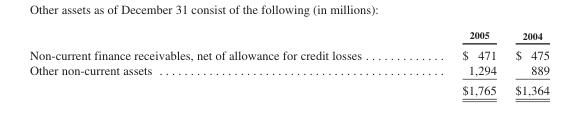table: (29, 29, 549, 96)
table column: (29, 29, 411, 96), (411, 29, 505, 96), (505, 29, 549, 96)
table column header: (29, 29, 549, 43)
table row: (29, 43, 549, 61), (29, 61, 549, 79), (29, 79, 549, 96), (29, 29, 549, 43)
